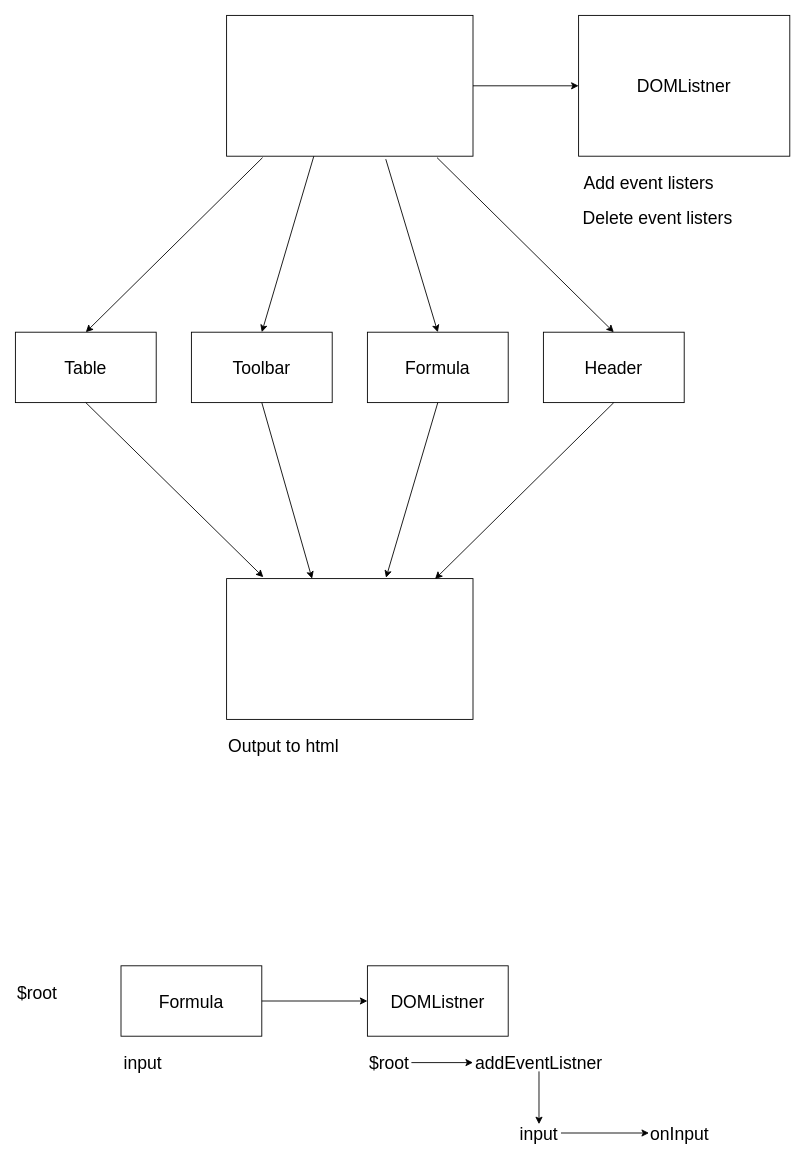
Some shapes in this 805 by 1159 pixel diagram are drawn without their labels. The box of each missing label's shape, as (x1, y1, x2, y2) in pixels:
Excel: (226, 578, 473, 719)
Excel Component: (226, 15, 473, 156)
